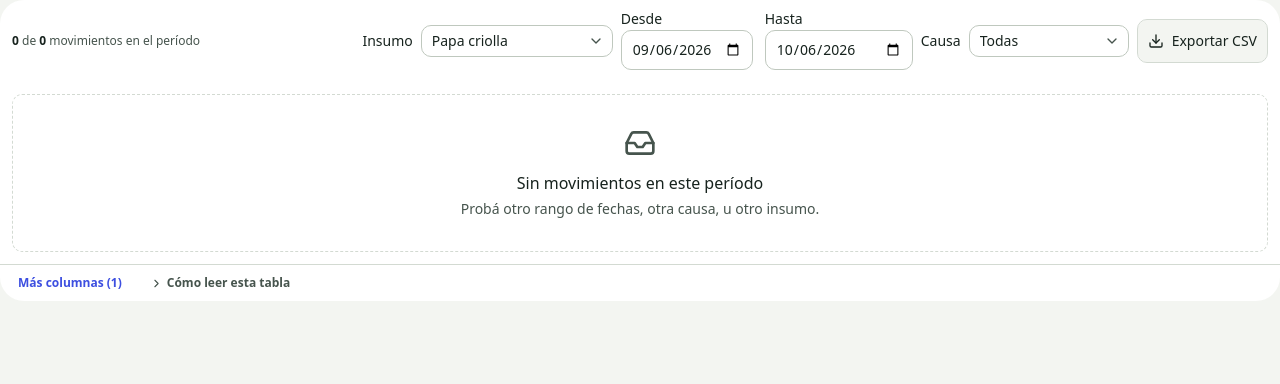
Scenario: MovementsPanel — la causa es un enum cerrado, nunca texto libre › el filtro de causa es una lista desplegable con las causas del backend, sin campo de texto
Click the dropdown named "Causa" at (1049, 41), box [969,25,1129,57]
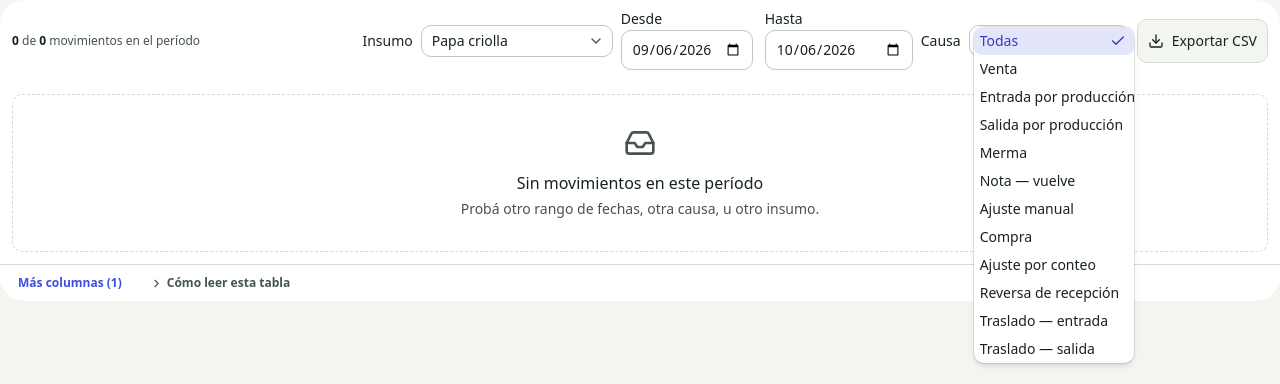
Expected: the option "Merma" is shown, [980,143,1027,162]
